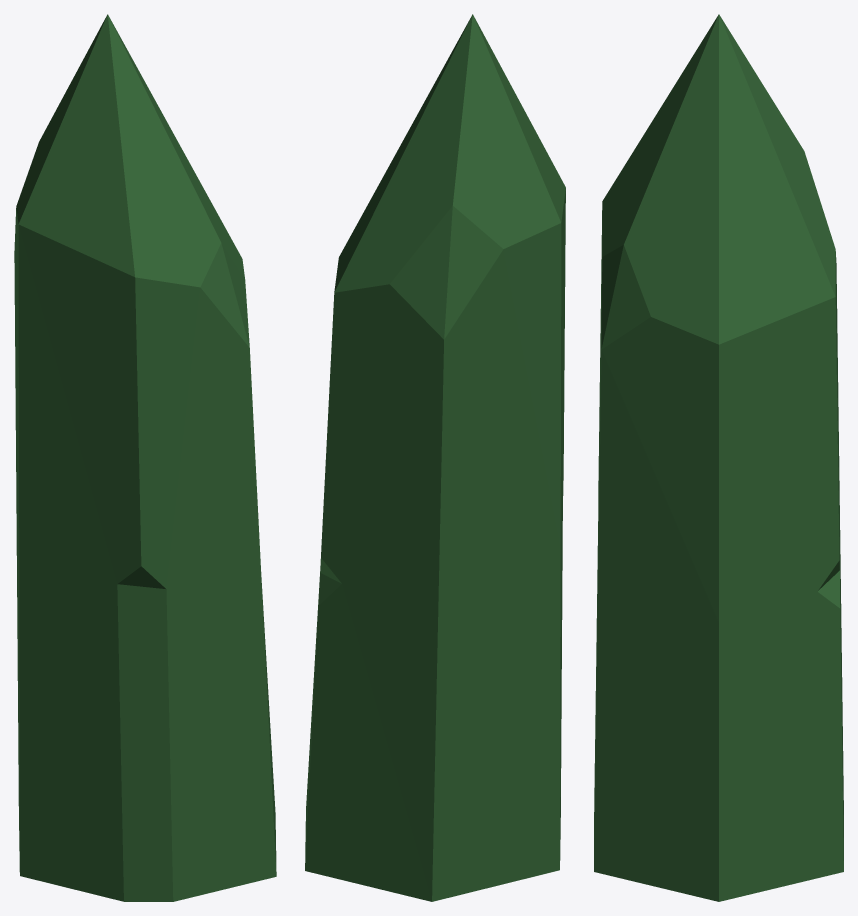
Rendered from SM_Crystal 1.glb.
3 renders of one model, left to right at view 1: azimuth 30°, elevation 25°; view 2: azimuth 150°, elevation 25°; view 3: azimuth 270°, elevation 25°, orthographic. The views are drawn at different scales.
Visible parts, largest first — view 1: SM_Crystal 1; view 2: SM_Crystal 1; view 3: SM_Crystal 1.
Part boxes in pixels (x1,y1,x2,y2): SM_Crystal 1: [14, 14, 276, 901]; SM_Crystal 1: [305, 14, 565, 901]; SM_Crystal 1: [594, 14, 843, 901].
Size of the model in its own units: 0.08 by 0.25 by 0.07.
Materials: 1 (1 with a texture image).
